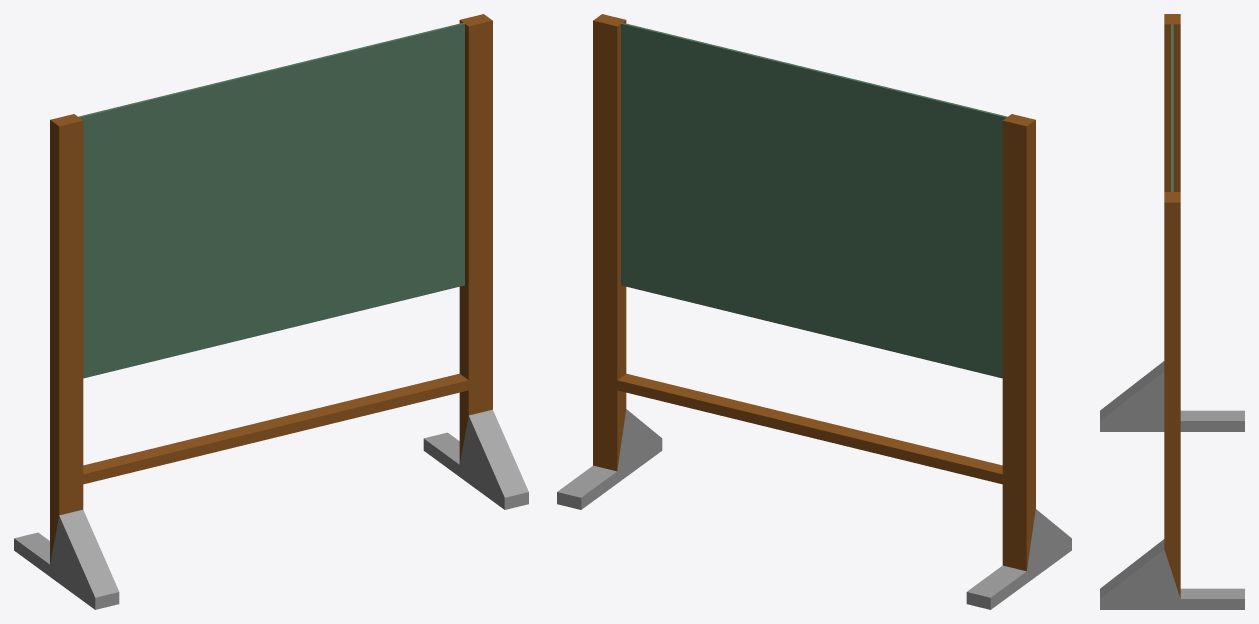
File: ChalkboardA.fbx
3 renders of one model, left to right at view 1: azimuth 30°, elevation 25°; view 2: azimuth 150°, elevation 25°; view 3: azimuth 270°, elevation 25°, orthographic. The views are drawn at different scales.
Visible parts, largest first — view 1: ChalkboardA; view 2: ChalkboardA; view 3: ChalkboardA.
Part boxes in pixels (left/top/right/bottom): ChalkboardA: left=14, top=14, right=528, bottom=609; ChalkboardA: left=557, top=14, right=1071, bottom=609; ChalkboardA: left=1100, top=14, right=1244, bottom=609.
Bounding box in the file's own units: 122 × 122 × 39.44.
Materials: 1 (1 with a texture image).
